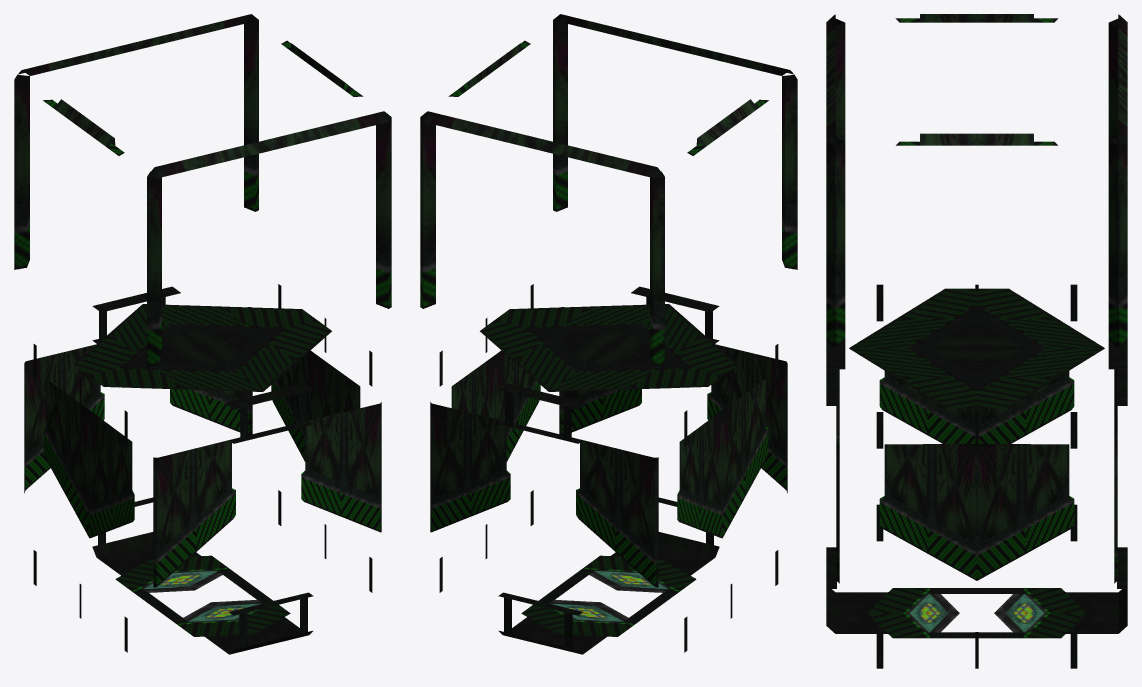
Rendered from Goal.001.fbx.
3 renders of one model, left to right at view 1: azimuth 30°, elevation 25°; view 2: azimuth 150°, elevation 25°; view 3: azimuth 270°, elevation 25°, orthographic. The views are drawn at different scales.
Parts seen in each view (by area): view 1: Cube; view 2: Cube; view 3: Cube.
Boxes of the visible parts, x1,y1,x2,y2 form: Cube: [14, 14, 391, 654]; Cube: [420, 14, 797, 654]; Cube: [826, 14, 1127, 668].
Bounding box in the file's own units: 2.06 × 4.06 × 2.06.
